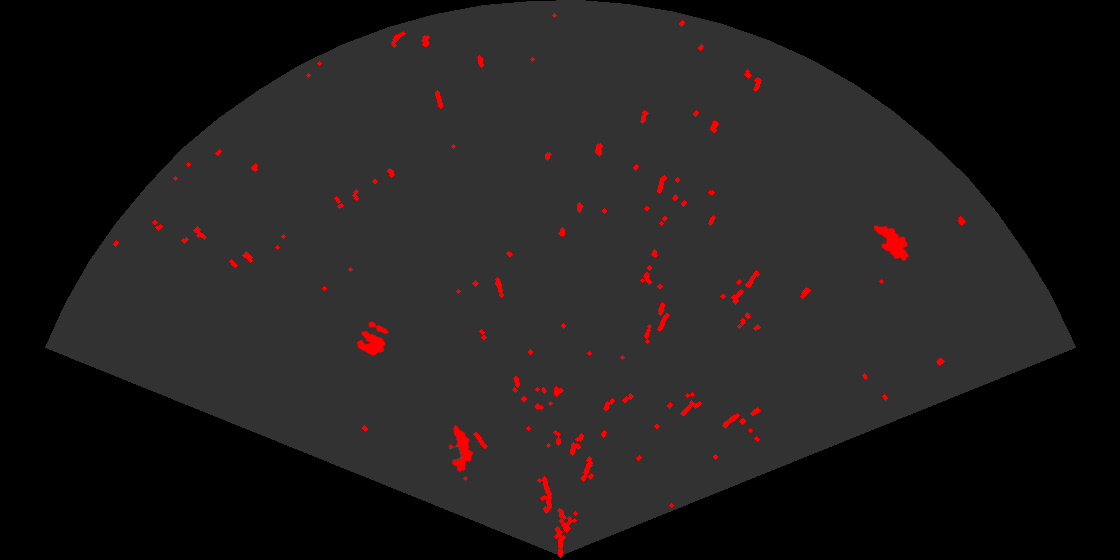AUV: (872, 224, 910, 262), (447, 423, 475, 474)
ball: (355, 320, 390, 357)
